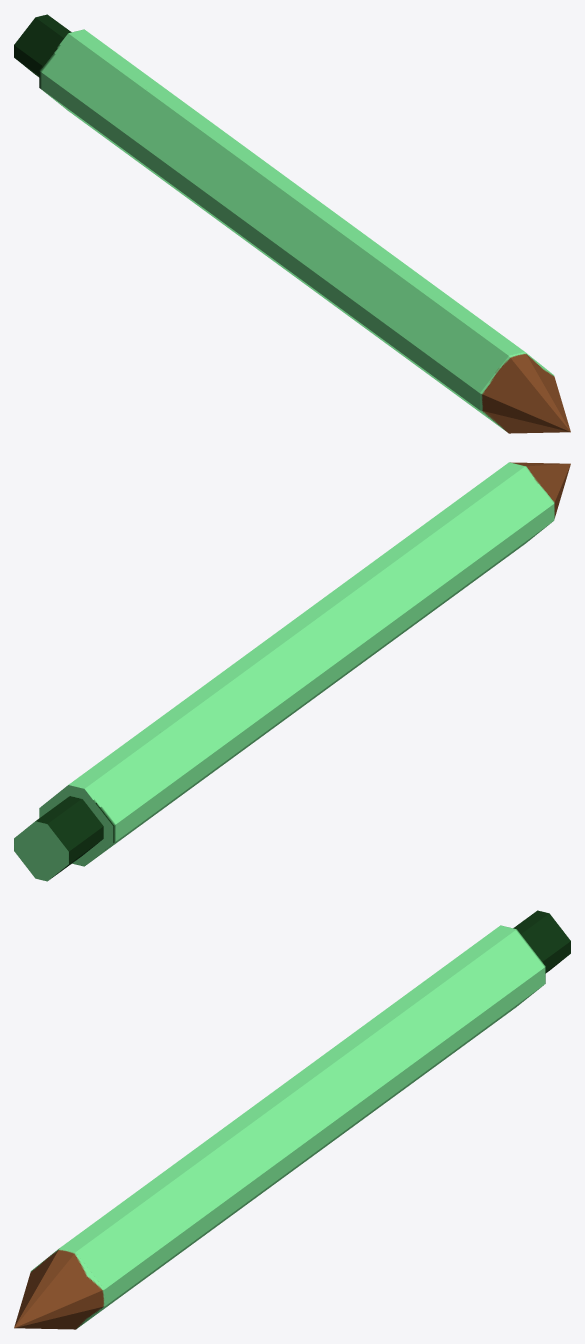
The model's file is Pencil-1.fbx.
3 views of the same model, one above another, from view 1: azimuth 30°, elevation 25°; view 2: azimuth 150°, elevation 25°; view 3: azimuth 330°, elevation 25° (orthographic).
Visible parts, largest first — view 1: Pencil.001; view 2: Pencil.001; view 3: Pencil.001.
Part boxes in pixels (x1=…): Pencil.001: x1=14, y1=14, x2=570, y2=433; Pencil.001: x1=14, y1=462, x2=570, y2=881; Pencil.001: x1=14, y1=910, x2=570, y2=1329.
Size of the model in its own units: 19.08 by 19.08 by 236.
1 material, 1 textured.
